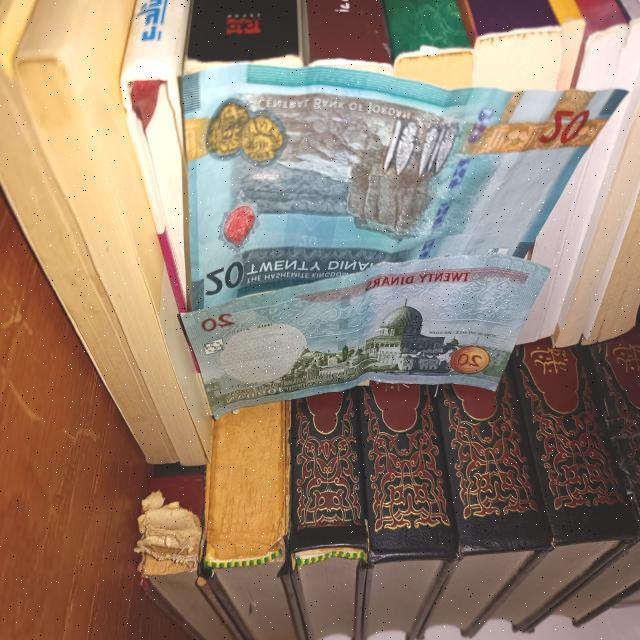20-dinar: (180, 53, 630, 319), (175, 254, 556, 424)
